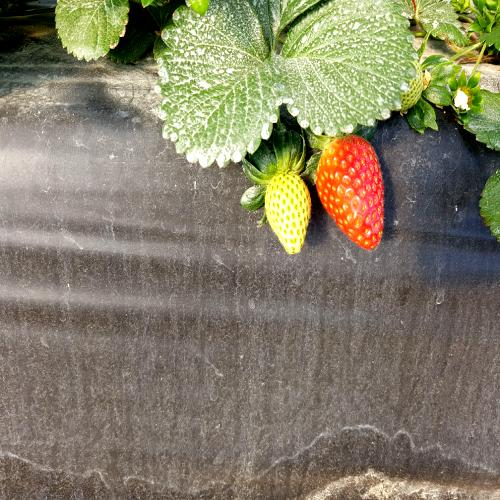ripe: (315, 125, 396, 264)
